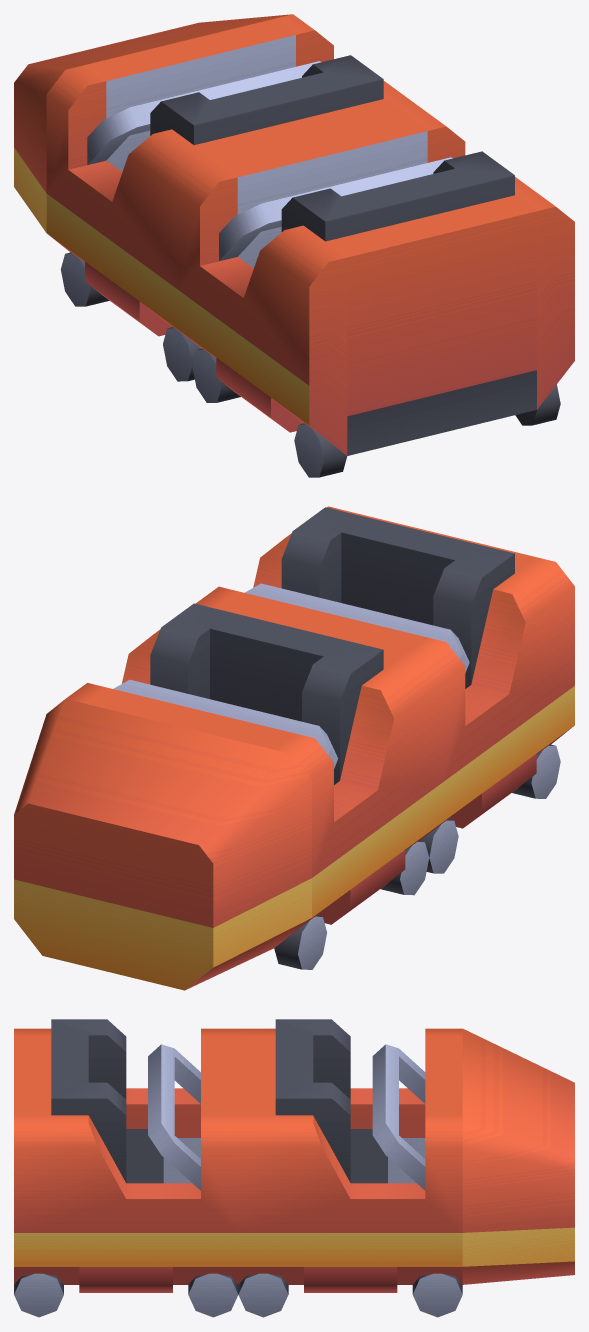
Rendered from coaster-train-front.glb.
3 renders of one model, top to bottom at view 1: azimuth 30°, elevation 25°; view 2: azimuth 150°, elevation 25°; view 3: azimuth 270°, elevation 25°, orthographic. The views are drawn at different scales.
Parts seen in each view (by area): view 1: coaster-train-front; view 2: coaster-train-front; view 3: coaster-train-front.
Part boxes in pixels (x1=…): coaster-train-front: x1=14, y1=14, x2=574, y2=477; coaster-train-front: x1=14, y1=506, x2=574, y2=990; coaster-train-front: x1=14, y1=1019, x2=574, y2=1317.
Bounding box in the file's own units: 2.1 × 1.85 × 4.5.
1 material, 1 textured.
